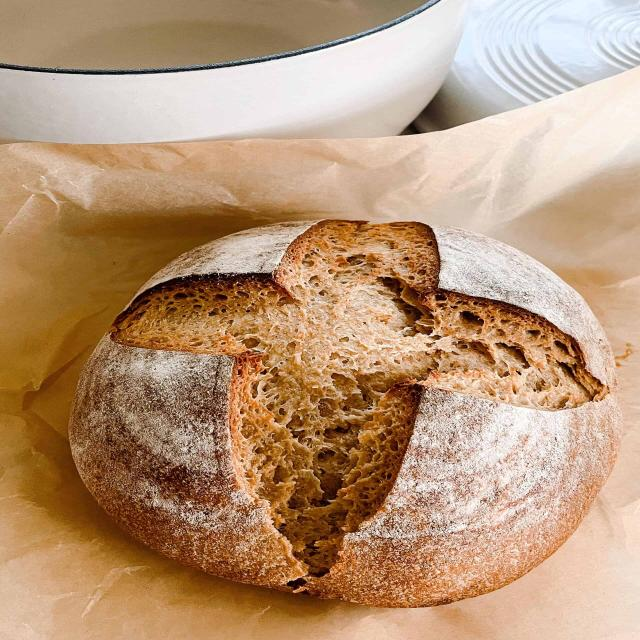Maltese-Bread: (69, 220, 620, 607)
